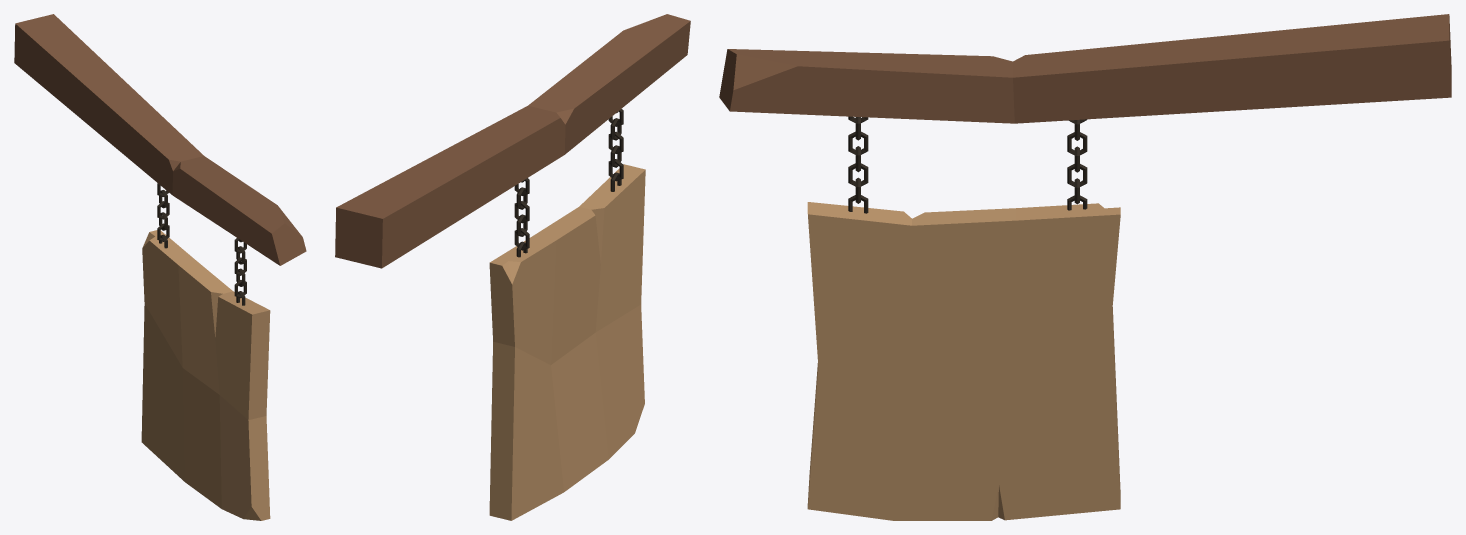
The model's file is BillBoard_2.fbx.
The picture shows the model from 3 angles, left to right: view 1: azimuth 30°, elevation 25°; view 2: azimuth 150°, elevation 25°; view 3: azimuth 270°, elevation 25°; orthographic projection. The views are drawn at different scales.
Parts seen in each view (by area): view 1: BillBoard_2; view 2: BillBoard_2; view 3: BillBoard_2.
Part boxes in pixels (x1,y1,x2,y2): BillBoard_2: (14, 14, 306, 520); BillBoard_2: (335, 14, 690, 520); BillBoard_2: (719, 14, 1451, 520).
Size of the model in its own units: 11.76 by 100 by 137.
